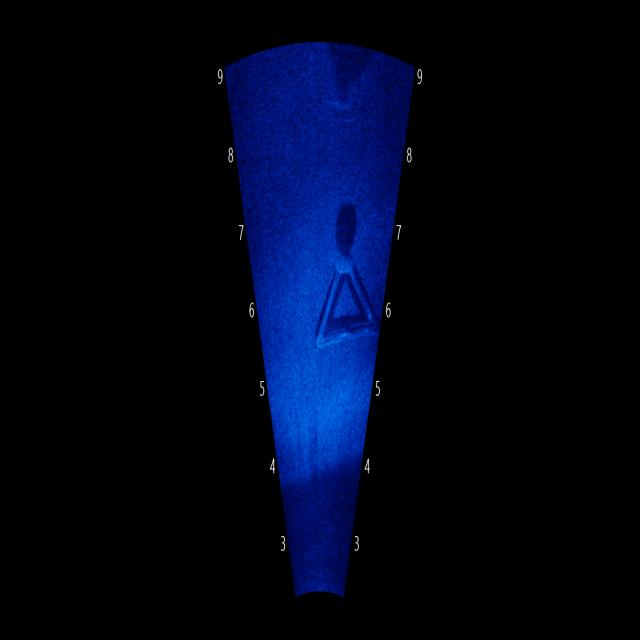triangle: (308, 221, 385, 362)
